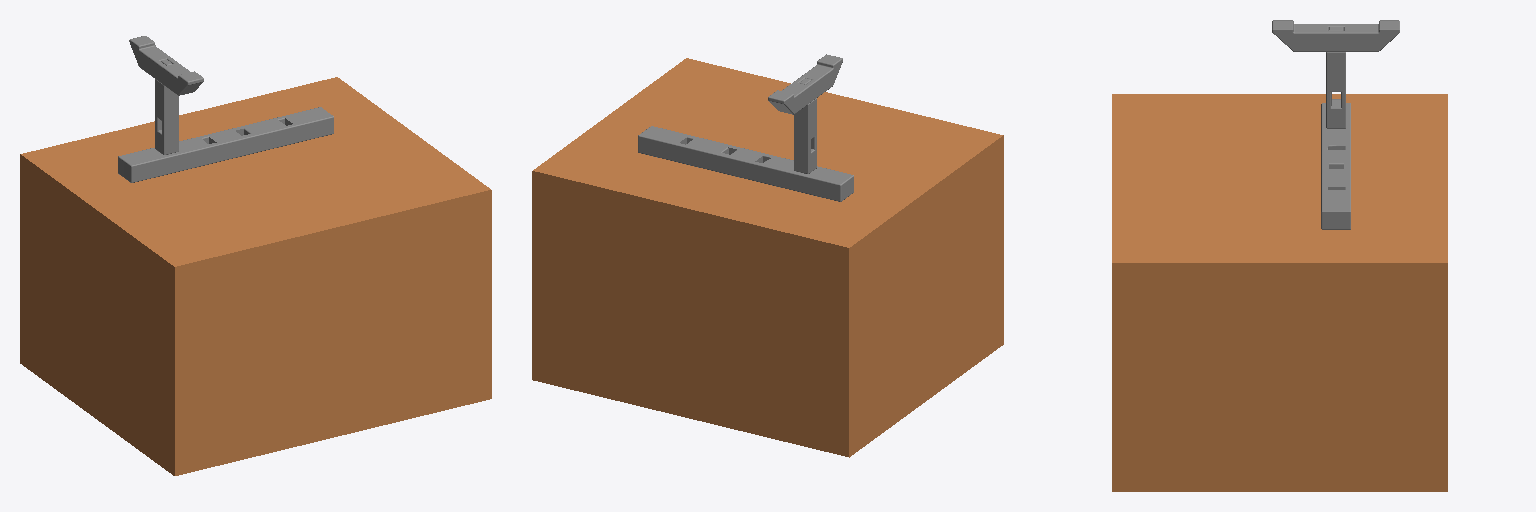
URDF robot description (table_beam_2x_3_scene_0058):
<?xml version="1.0"?>
<robot name="table_beam_2x_3_scene_0058">
  <link name="box">
    <visual>
      <material name="wood"><color rgba="0.82 0.56 0.35 1.0"/></material>
      <origin xyz="0 0 0"/>
      <geometry><box size="0.475 0.4 0.3"/></geometry>
    </visual>
    <collision>
      <origin xyz="0 0 0"/>
      <geometry><box size="0.475 0.4 0.3"/></geometry>
    </collision>
    <inertial>
      <mass value="500"/>
      <friction value="1.0"/>
      <inertia ixx="1000.0" ixy="0.0" ixz="0.0" iyy="1000.0" iyz="0.0" izz="1000.0"/>
    </inertial>
  </link>
  <link name="part_6_hull_0">
    <visual>
      <origin xyz="0 0 0" rpy="0 0 0"/>
      <geometry><mesh filename="../../6/coacd/decomp_0.obj" scale="1 1 1"/></geometry>
      <material name="placed_0"><color rgba="0.6 0.6 0.6 1.0"/></material>
    </visual>
    <collision>
      <origin xyz="0 0 0" rpy="0 0 0"/>
      <geometry><mesh filename="../../6/coacd/decomp_0.obj" scale="1 1 1"/></geometry>
    </collision>
  </link>
  <joint name="part_6_hull_0_joint" type="fixed">
    <parent link="box"/>
    <child link="part_6_hull_0"/>
    <origin xyz="-0.005976 0.066975 0.162666" rpy="0.000000 0.000000 0.000000"/>
  </joint>
  <link name="part_6_hull_1">
    <visual>
      <origin xyz="0 0 0" rpy="0 0 0"/>
      <geometry><mesh filename="../../6/coacd/decomp_1.obj" scale="1 1 1"/></geometry>
      <material name="placed_1"><color rgba="0.6 0.6 0.6 1.0"/></material>
    </visual>
    <collision>
      <origin xyz="0 0 0" rpy="0 0 0"/>
      <geometry><mesh filename="../../6/coacd/decomp_1.obj" scale="1 1 1"/></geometry>
    </collision>
  </link>
  <joint name="part_6_hull_1_joint" type="fixed">
    <parent link="box"/>
    <child link="part_6_hull_1"/>
    <origin xyz="-0.005976 0.066975 0.162666" rpy="0.000000 0.000000 0.000000"/>
  </joint>
  <link name="part_6_hull_2">
    <visual>
      <origin xyz="0 0 0" rpy="0 0 0"/>
      <geometry><mesh filename="../../6/coacd/decomp_10.obj" scale="1 1 1"/></geometry>
      <material name="placed_2"><color rgba="0.6 0.6 0.6 1.0"/></material>
    </visual>
    <collision>
      <origin xyz="0 0 0" rpy="0 0 0"/>
      <geometry><mesh filename="../../6/coacd/decomp_10.obj" scale="1 1 1"/></geometry>
    </collision>
  </link>
  <joint name="part_6_hull_2_joint" type="fixed">
    <parent link="box"/>
    <child link="part_6_hull_2"/>
    <origin xyz="-0.005976 0.066975 0.162666" rpy="0.000000 0.000000 0.000000"/>
  </joint>
  <link name="part_6_hull_3">
    <visual>
      <origin xyz="0 0 0" rpy="0 0 0"/>
      <geometry><mesh filename="../../6/coacd/decomp_11.obj" scale="1 1 1"/></geometry>
      <material name="placed_3"><color rgba="0.6 0.6 0.6 1.0"/></material>
    </visual>
    <collision>
      <origin xyz="0 0 0" rpy="0 0 0"/>
      <geometry><mesh filename="../../6/coacd/decomp_11.obj" scale="1 1 1"/></geometry>
    </collision>
  </link>
  <joint name="part_6_hull_3_joint" type="fixed">
    <parent link="box"/>
    <child link="part_6_hull_3"/>
    <origin xyz="-0.005976 0.066975 0.162666" rpy="0.000000 0.000000 0.000000"/>
  </joint>
  <link name="part_6_hull_4">
    <visual>
      <origin xyz="0 0 0" rpy="0 0 0"/>
      <geometry><mesh filename="../../6/coacd/decomp_12.obj" scale="1 1 1"/></geometry>
      <material name="placed_4"><color rgba="0.6 0.6 0.6 1.0"/></material>
    </visual>
    <collision>
      <origin xyz="0 0 0" rpy="0 0 0"/>
      <geometry><mesh filename="../../6/coacd/decomp_12.obj" scale="1 1 1"/></geometry>
    </collision>
  </link>
  <joint name="part_6_hull_4_joint" type="fixed">
    <parent link="box"/>
    <child link="part_6_hull_4"/>
    <origin xyz="-0.005976 0.066975 0.162666" rpy="0.000000 0.000000 0.000000"/>
  </joint>
  <link name="part_6_hull_5">
    <visual>
      <origin xyz="0 0 0" rpy="0 0 0"/>
      <geometry><mesh filename="../../6/coacd/decomp_13.obj" scale="1 1 1"/></geometry>
      <material name="placed_5"><color rgba="0.6 0.6 0.6 1.0"/></material>
    </visual>
    <collision>
      <origin xyz="0 0 0" rpy="0 0 0"/>
      <geometry><mesh filename="../../6/coacd/decomp_13.obj" scale="1 1 1"/></geometry>
    </collision>
  </link>
  <joint name="part_6_hull_5_joint" type="fixed">
    <parent link="box"/>
    <child link="part_6_hull_5"/>
    <origin xyz="-0.005976 0.066975 0.162666" rpy="0.000000 0.000000 0.000000"/>
  </joint>
  <link name="part_6_hull_6">
    <visual>
      <origin xyz="0 0 0" rpy="0 0 0"/>
      <geometry><mesh filename="../../6/coacd/decomp_2.obj" scale="1 1 1"/></geometry>
      <material name="placed_6"><color rgba="0.6 0.6 0.6 1.0"/></material>
    </visual>
    <collision>
      <origin xyz="0 0 0" rpy="0 0 0"/>
      <geometry><mesh filename="../../6/coacd/decomp_2.obj" scale="1 1 1"/></geometry>
    </collision>
  </link>
  <joint name="part_6_hull_6_joint" type="fixed">
    <parent link="box"/>
    <child link="part_6_hull_6"/>
    <origin xyz="-0.005976 0.066975 0.162666" rpy="0.000000 0.000000 0.000000"/>
  </joint>
  <link name="part_6_hull_7">
    <visual>
      <origin xyz="0 0 0" rpy="0 0 0"/>
      <geometry><mesh filename="../../6/coacd/decomp_3.obj" scale="1 1 1"/></geometry>
      <material name="placed_7"><color rgba="0.6 0.6 0.6 1.0"/></material>
    </visual>
    <collision>
      <origin xyz="0 0 0" rpy="0 0 0"/>
      <geometry><mesh filename="../../6/coacd/decomp_3.obj" scale="1 1 1"/></geometry>
    </collision>
  </link>
  <joint name="part_6_hull_7_joint" type="fixed">
    <parent link="box"/>
    <child link="part_6_hull_7"/>
    <origin xyz="-0.005976 0.066975 0.162666" rpy="0.000000 0.000000 0.000000"/>
  </joint>
  <link name="part_6_hull_8">
    <visual>
      <origin xyz="0 0 0" rpy="0 0 0"/>
      <geometry><mesh filename="../../6/coacd/decomp_4.obj" scale="1 1 1"/></geometry>
      <material name="placed_8"><color rgba="0.6 0.6 0.6 1.0"/></material>
    </visual>
    <collision>
      <origin xyz="0 0 0" rpy="0 0 0"/>
      <geometry><mesh filename="../../6/coacd/decomp_4.obj" scale="1 1 1"/></geometry>
    </collision>
  </link>
  <joint name="part_6_hull_8_joint" type="fixed">
    <parent link="box"/>
    <child link="part_6_hull_8"/>
    <origin xyz="-0.005976 0.066975 0.162666" rpy="0.000000 0.000000 0.000000"/>
  </joint>
  <link name="part_6_hull_9">
    <visual>
      <origin xyz="0 0 0" rpy="0 0 0"/>
      <geometry><mesh filename="../../6/coacd/decomp_5.obj" scale="1 1 1"/></geometry>
      <material name="placed_9"><color rgba="0.6 0.6 0.6 1.0"/></material>
    </visual>
    <collision>
      <origin xyz="0 0 0" rpy="0 0 0"/>
      <geometry><mesh filename="../../6/coacd/decomp_5.obj" scale="1 1 1"/></geometry>
    </collision>
  </link>
  <joint name="part_6_hull_9_joint" type="fixed">
    <parent link="box"/>
    <child link="part_6_hull_9"/>
    <origin xyz="-0.005976 0.066975 0.162666" rpy="0.000000 0.000000 0.000000"/>
  </joint>
  <link name="part_6_hull_10">
    <visual>
      <origin xyz="0 0 0" rpy="0 0 0"/>
      <geometry><mesh filename="../../6/coacd/decomp_6.obj" scale="1 1 1"/></geometry>
      <material name="placed_10"><color rgba="0.6 0.6 0.6 1.0"/></material>
    </visual>
    <collision>
      <origin xyz="0 0 0" rpy="0 0 0"/>
      <geometry><mesh filename="../../6/coacd/decomp_6.obj" scale="1 1 1"/></geometry>
    </collision>
  </link>
  <joint name="part_6_hull_10_joint" type="fixed">
    <parent link="box"/>
    <child link="part_6_hull_10"/>
    <origin xyz="-0.005976 0.066975 0.162666" rpy="0.000000 0.000000 0.000000"/>
  </joint>
  <link name="part_6_hull_11">
    <visual>
      <origin xyz="0 0 0" rpy="0 0 0"/>
      <geometry><mesh filename="../../6/coacd/decomp_7.obj" scale="1 1 1"/></geometry>
      <material name="placed_11"><color rgba="0.6 0.6 0.6 1.0"/></material>
    </visual>
    <collision>
      <origin xyz="0 0 0" rpy="0 0 0"/>
      <geometry><mesh filename="../../6/coacd/decomp_7.obj" scale="1 1 1"/></geometry>
    </collision>
  </link>
  <joint name="part_6_hull_11_joint" type="fixed">
    <parent link="box"/>
    <child link="part_6_hull_11"/>
    <origin xyz="-0.005976 0.066975 0.162666" rpy="0.000000 0.000000 0.000000"/>
  </joint>
  <link name="part_6_hull_12">
    <visual>
      <origin xyz="0 0 0" rpy="0 0 0"/>
      <geometry><mesh filename="../../6/coacd/decomp_8.obj" scale="1 1 1"/></geometry>
      <material name="placed_12"><color rgba="0.6 0.6 0.6 1.0"/></material>
    </visual>
    <collision>
      <origin xyz="0 0 0" rpy="0 0 0"/>
      <geometry><mesh filename="../../6/coacd/decomp_8.obj" scale="1 1 1"/></geometry>
    </collision>
  </link>
  <joint name="part_6_hull_12_joint" type="fixed">
    <parent link="box"/>
    <child link="part_6_hull_12"/>
    <origin xyz="-0.005976 0.066975 0.162666" rpy="0.000000 0.000000 0.000000"/>
  </joint>
  <link name="part_6_hull_13">
    <visual>
      <origin xyz="0 0 0" rpy="0 0 0"/>
      <geometry><mesh filename="../../6/coacd/decomp_9.obj" scale="1 1 1"/></geometry>
      <material name="placed_13"><color rgba="0.6 0.6 0.6 1.0"/></material>
    </visual>
    <collision>
      <origin xyz="0 0 0" rpy="0 0 0"/>
      <geometry><mesh filename="../../6/coacd/decomp_9.obj" scale="1 1 1"/></geometry>
    </collision>
  </link>
  <joint name="part_6_hull_13_joint" type="fixed">
    <parent link="box"/>
    <child link="part_6_hull_13"/>
    <origin xyz="-0.005976 0.066975 0.162666" rpy="0.000000 0.000000 0.000000"/>
  </joint>
  <link name="part_2_canonical">
    <visual>
      <origin xyz="0 0 0" rpy="0 0 0"/>
      <geometry><mesh filename="../../2/2_canonical.obj" scale="1 1 1"/></geometry>
      <material name="placed_14"><color rgba="0.6 0.6 0.6 1.0"/></material>
    </visual>
    <collision>
      <origin xyz="0 0 0" rpy="0 0 0"/>
      <geometry><mesh filename="../../2/2_canonical.obj" scale="1 1 1"/></geometry>
    </collision>
  </link>
  <joint name="part_2_canonical_joint" type="fixed">
    <parent link="box"/>
    <child link="part_2_canonical"/>
    <origin xyz="-0.094903 0.066975 0.225384" rpy="0.000000 -1.570796 0.000000"/>
  </joint>
  <link name="part_0_canonical">
    <visual>
      <origin xyz="0 0 0" rpy="0 0 0"/>
      <geometry><mesh filename="../../0/0_canonical.obj" scale="1 1 1"/></geometry>
      <material name="placed_15"><color rgba="0.6 0.6 0.6 1.0"/></material>
    </visual>
    <collision>
      <origin xyz="0 0 0" rpy="0 0 0"/>
      <geometry><mesh filename="../../0/0_canonical.obj" scale="1 1 1"/></geometry>
    </collision>
  </link>
  <joint name="part_0_canonical_joint" type="fixed">
    <parent link="box"/>
    <child link="part_0_canonical"/>
    <origin xyz="-0.094876 0.066975 0.292243" rpy="1.570796 0.000000 -1.570796"/>
  </joint>
</robot>

--- Facts derived from the render (not from the file) ---
The picture shows the robot from 3 angles, left to right: view 1: azimuth 30°, elevation 25°; view 2: azimuth 150°, elevation 25°; view 3: azimuth 270°, elevation 25°; orthographic projection.
Robot: table_beam_2x_3_scene_0058 — 17 links, 16 joints (16 fixed); root link box; default pose: all joints at 0.
Visible links, largest first — view 1: box, part_0_canonical, part_2_canonical, part_6_hull_1, part_6_hull_0, part_6_hull_9, part_6_hull_5, part_6_hull_3; view 2: box, part_0_canonical, part_2_canonical, part_6_hull_1, part_6_hull_0, part_6_hull_2, part_6_hull_12, part_6_hull_5; view 3: box, part_0_canonical, part_2_canonical, part_6_hull_0.
Link boxes in pixels (left/top/right/bottom): box: left=20, top=77, right=491, bottom=475; part_0_canonical: left=129, top=36, right=203, bottom=95; part_2_canonical: left=155, top=59, right=178, bottom=154; part_6_hull_1: left=118, top=148, right=169, bottom=182; part_6_hull_0: left=283, top=107, right=333, bottom=142; part_6_hull_9: left=168, top=143, right=219, bottom=173; part_6_hull_5: left=249, top=118, right=288, bottom=150; part_6_hull_3: left=221, top=132, right=261, bottom=160; box: left=532, top=58, right=1003, bottom=457; part_0_canonical: left=768, top=54, right=842, bottom=114; part_2_canonical: left=794, top=78, right=816, bottom=173; part_6_hull_1: left=802, top=166, right=853, bottom=201; part_6_hull_0: left=638, top=126, right=688, bottom=161; part_6_hull_2: left=760, top=158, right=796, bottom=190; part_6_hull_12: left=710, top=151, right=751, bottom=179; part_6_hull_5: left=684, top=137, right=722, bottom=169; box: left=1112, top=94, right=1447, bottom=491; part_0_canonical: left=1272, top=20, right=1399, bottom=51; part_2_canonical: left=1326, top=27, right=1345, bottom=128; part_6_hull_0: left=1321, top=190, right=1350, bottom=229.
Bounding box of the posed robot: 0.475 × 0.4 × 0.4575 m (x, y, z).
Meshes: 16 distinct files referenced, 16 mesh visuals loaded (16 OBJ).
